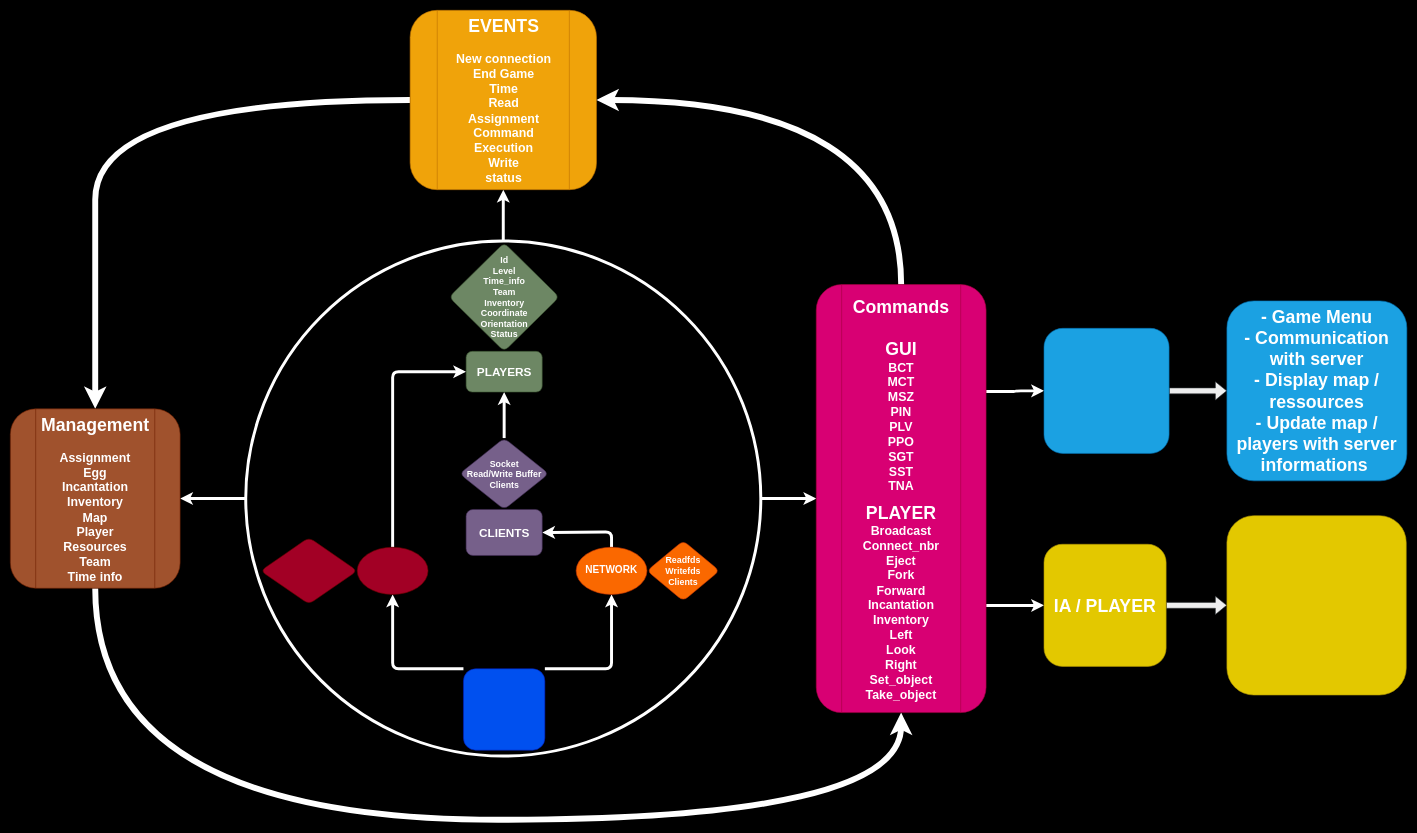
The diagram is 1417 pixels wide and 833 high, and some of its shapes have lost their labels. Here are the shapes that lost their labels. From the top down, the box of each, then its label:
(1043, 328, 1169, 453): GUI
(260, 537, 357, 604): Frequence Map Team Players
(357, 547, 428, 594): GAME
(1226, 515, 1406, 695): - Fork handling with broadcasts - Focus incantation - Food handling
(463, 668, 545, 750): SERVER
